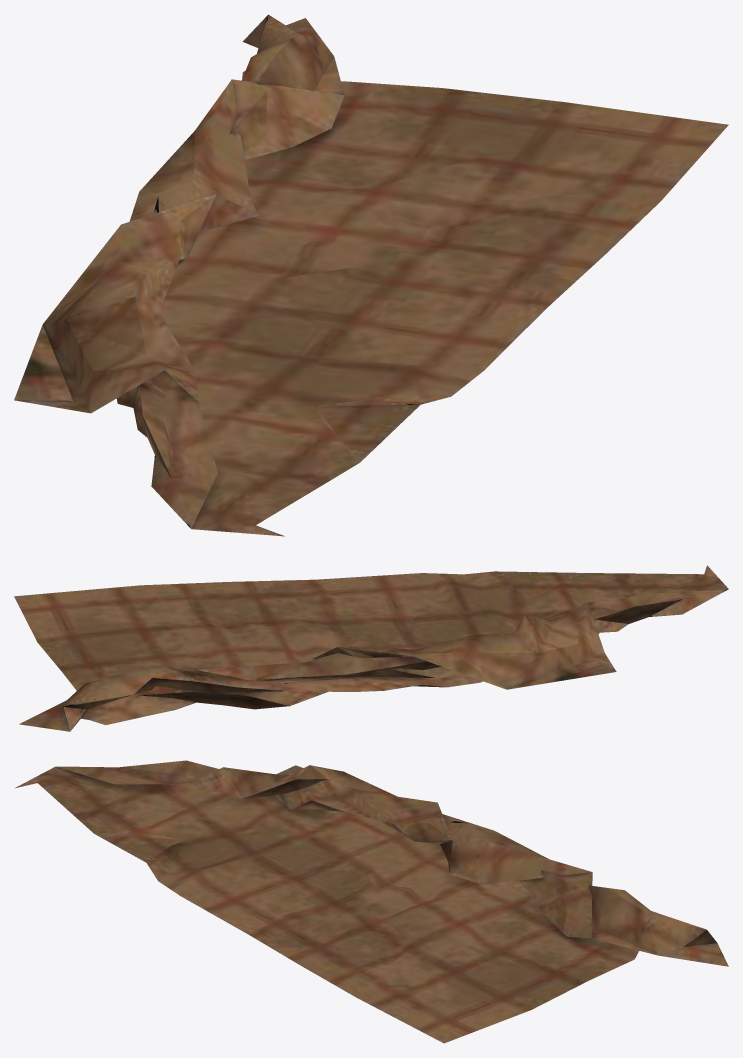
Rendered from rag_blanket_2_lod1_web.glb.
3 views of the same model, one above another, from view 1: azimuth 30°, elevation 25°; view 2: azimuth 150°, elevation 25°; view 3: azimuth 270°, elevation 25° (orthographic). The views are drawn at different scales.
Parts seen in each view (by area): view 1: rag_blanket_2_Cloth; view 2: rag_blanket_2_Cloth; view 3: rag_blanket_2_Cloth.
Boxes of the visible parts, x1,y1,x2,y2 form: rag_blanket_2_Cloth: (14,14,728,536); rag_blanket_2_Cloth: (14,565,728,731); rag_blanket_2_Cloth: (15,760,728,1043).
Bounding box in the file's own units: 1.69 × 0.1393 × 1.86.
Materials: 1 (1 with a texture image).
